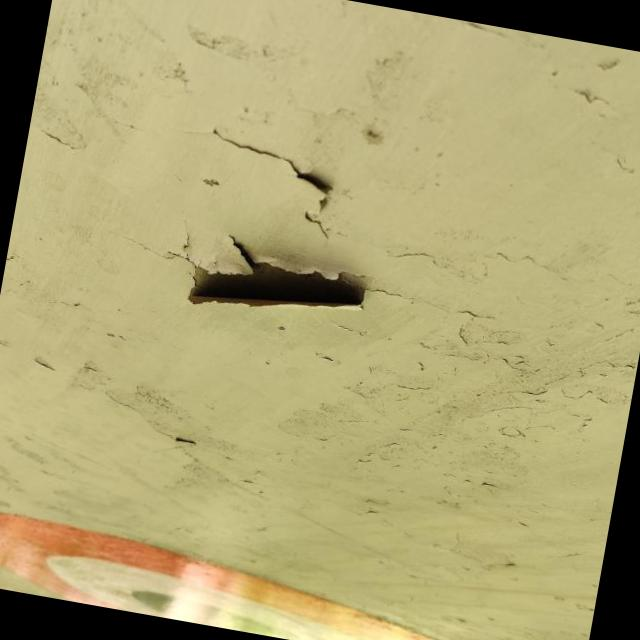Paint-off: (188, 258, 372, 305)
